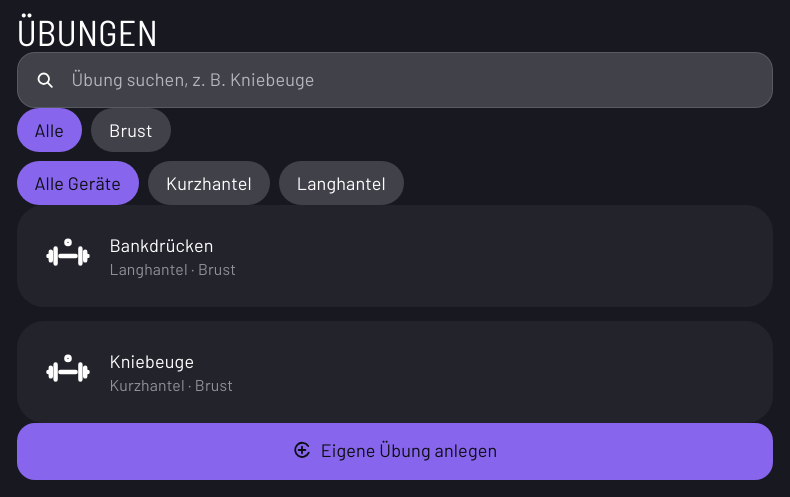
Test case: ExercisesPage › resets the equipment filter with the Alle Geräte chip
Click the button "Langhantel" at (341, 183), box [279,161,404,205]
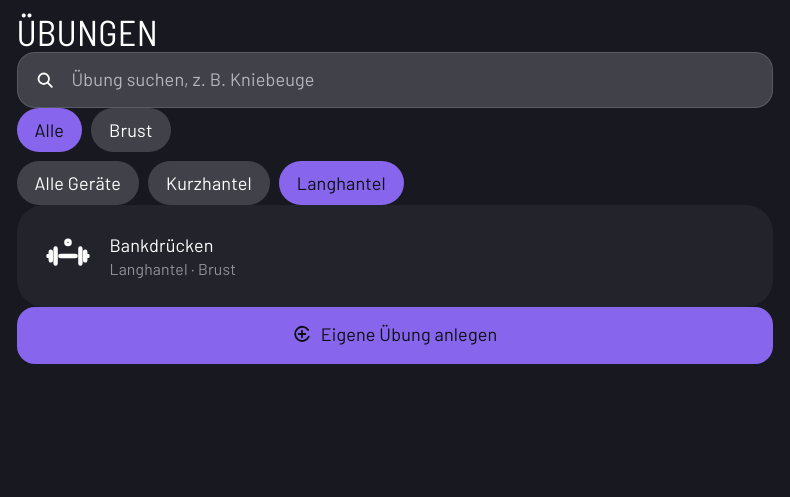
Click the button "Alle Geräte" at (78, 183), box [16,161,139,205]
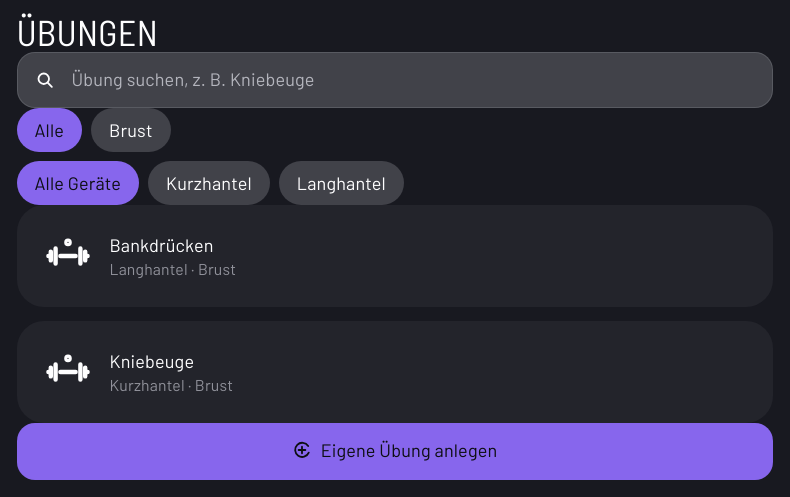
Check: the text "Kniebeuge" is shown, box [110,350,194,372]
